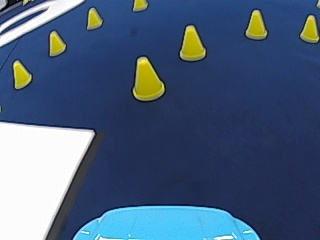cone: (131, 54, 165, 100), (179, 23, 206, 60), (244, 8, 267, 39), (11, 59, 31, 88), (299, 14, 319, 42), (47, 29, 65, 55), (85, 6, 102, 29), (132, 0, 146, 11)
